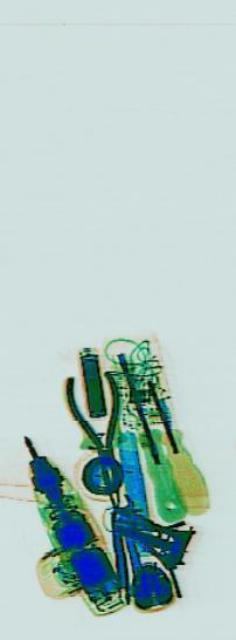Pliers: (60, 323, 136, 532)
Wrench: (111, 484, 147, 602)
